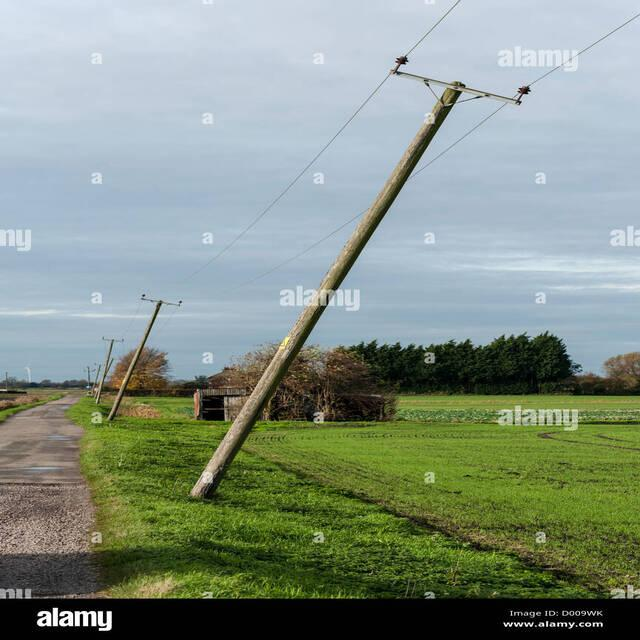Inclined Pole: (180, 49, 539, 502), (106, 292, 185, 422)
